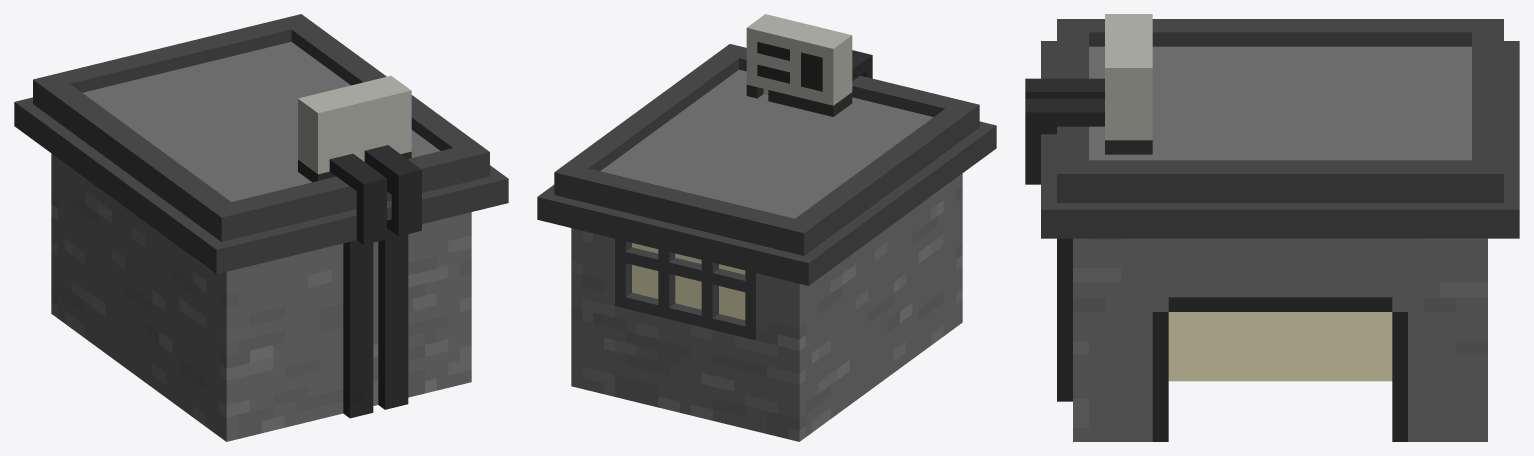
The model's file is casamilitar3.obj.
The picture shows the model from 3 angles, left to right: view 1: azimuth 30°, elevation 25°; view 2: azimuth 150°, elevation 25°; view 3: azimuth 270°, elevation 25°; orthographic projection. The views are drawn at different scales.
Size of the model in its own units: 2.5 by 2.4 by 3.1.
Materials: 1 (1 with a texture image).
